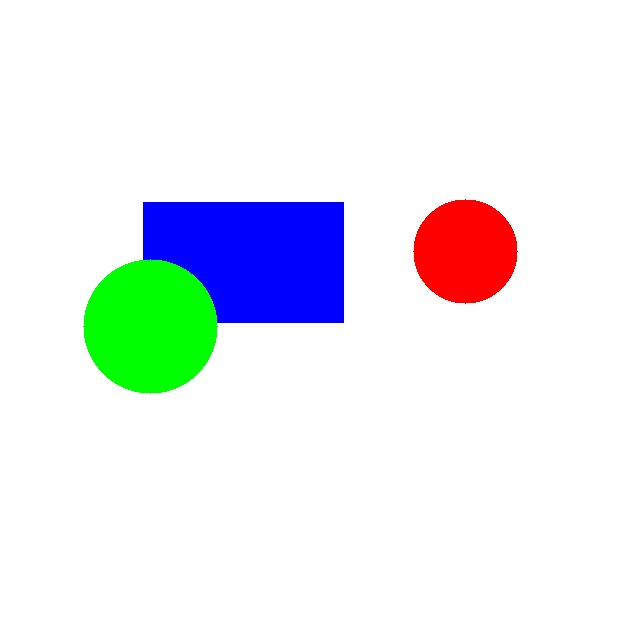cartao: (143, 202, 343, 322)
rosca_externa: (83, 259, 217, 393)
rosca_interna: (413, 199, 517, 303)
